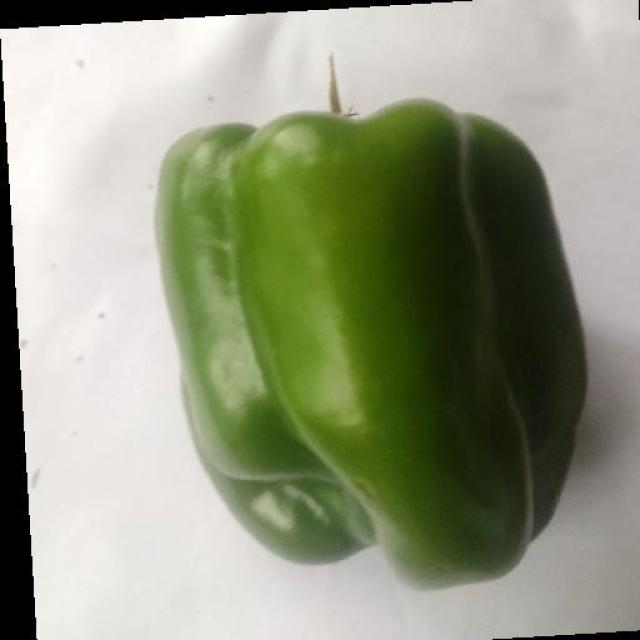Fresh_Capsicum: (98, 124, 607, 576)
